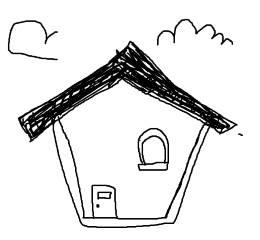clouds: (154, 15, 235, 47), (5, 18, 61, 62)
door: (86, 174, 124, 230)
open_window: (134, 124, 174, 175)
shaded_roof: (17, 40, 240, 142)
wall: (51, 80, 211, 228)
